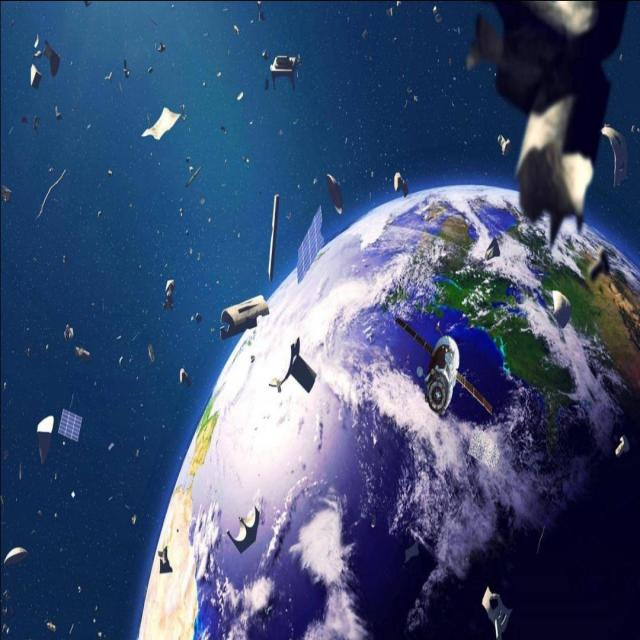large_debris: (463, 0, 639, 248), (266, 336, 322, 402), (288, 201, 328, 283), (36, 404, 86, 466), (218, 294, 276, 345), (602, 112, 640, 184), (478, 585, 513, 640), (140, 102, 188, 142), (224, 504, 260, 556), (35, 166, 67, 217), (267, 190, 283, 286), (269, 51, 304, 92), (548, 284, 574, 330), (325, 171, 347, 215), (587, 244, 612, 282), (3, 540, 30, 568), (483, 228, 503, 263), (44, 40, 62, 78), (156, 543, 173, 576), (496, 128, 513, 160), (392, 170, 410, 200), (163, 276, 177, 314), (402, 82, 420, 110), (613, 435, 632, 461), (535, 522, 549, 557), (185, 163, 202, 188), (405, 538, 422, 562), (0, 179, 14, 206), (73, 341, 91, 362), (253, 0, 268, 25), (29, 63, 42, 91), (61, 317, 76, 341), (177, 367, 193, 389), (190, 304, 206, 326), (146, 335, 157, 365), (429, 3, 445, 22), (386, 0, 402, 19), (33, 31, 43, 58), (309, 172, 322, 192), (16, 459, 27, 482), (121, 56, 132, 78), (367, 163, 379, 183), (105, 435, 117, 454), (260, 40, 269, 64), (367, 512, 379, 530), (194, 246, 205, 265), (114, 353, 127, 369), (212, 66, 225, 82), (242, 150, 253, 168), (129, 508, 139, 526), (176, 201, 186, 219), (232, 20, 242, 38), (156, 40, 167, 56), (235, 87, 246, 102), (263, 72, 270, 92)
medium_debris: (395, 311, 494, 419)
